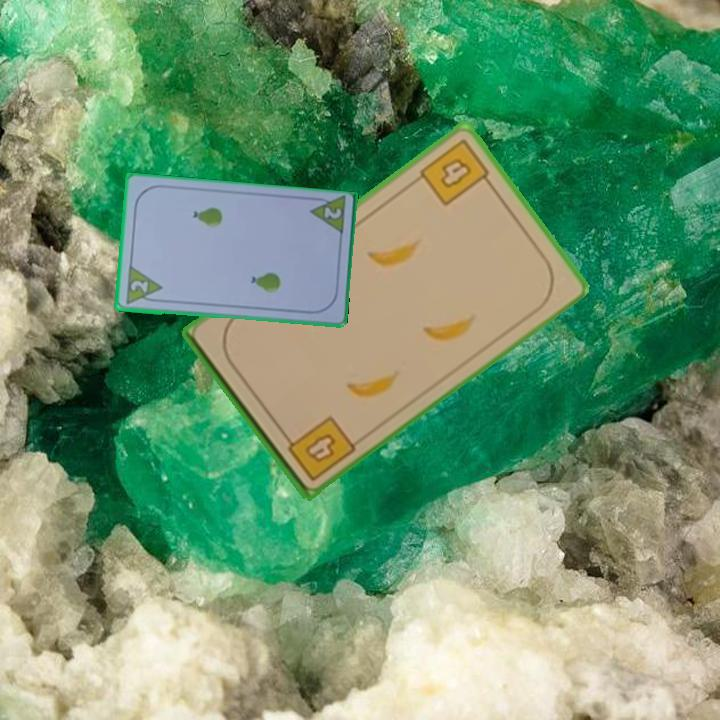2p: (122, 263, 164, 307), (320, 204, 345, 222)
4b: (416, 135, 496, 209), (279, 412, 359, 484)
